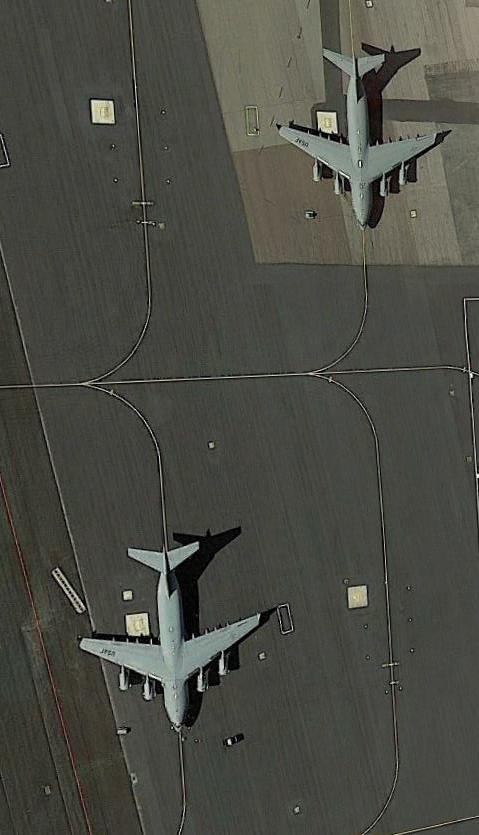C-17: (75, 526, 268, 733), (276, 38, 441, 233)
